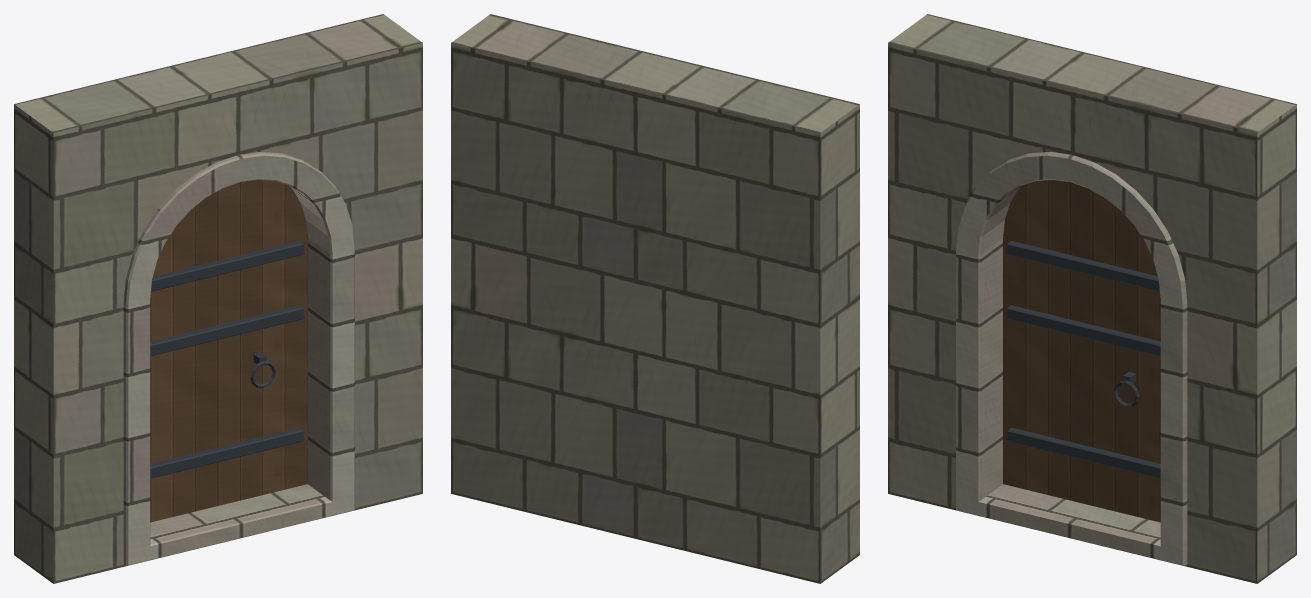
File: Furn_Wall2_Door.fbx
The picture shows the model from 3 angles, left to right: view 1: azimuth 30°, elevation 25°; view 2: azimuth 150°, elevation 25°; view 3: azimuth 330°, elevation 25°; orthographic projection.
Parts seen in each view (by area): view 1: Furn_Wall2_Door; view 2: Furn_Wall2_Door; view 3: Furn_Wall2_Door.
Part boxes in pixels (x1,y1,x2,y2): Furn_Wall2_Door: [14, 14, 422, 583]; Furn_Wall2_Door: [451, 14, 859, 583]; Furn_Wall2_Door: [888, 14, 1296, 583].
Bounding box in the file's own units: 3 × 3.5 × 0.6.
